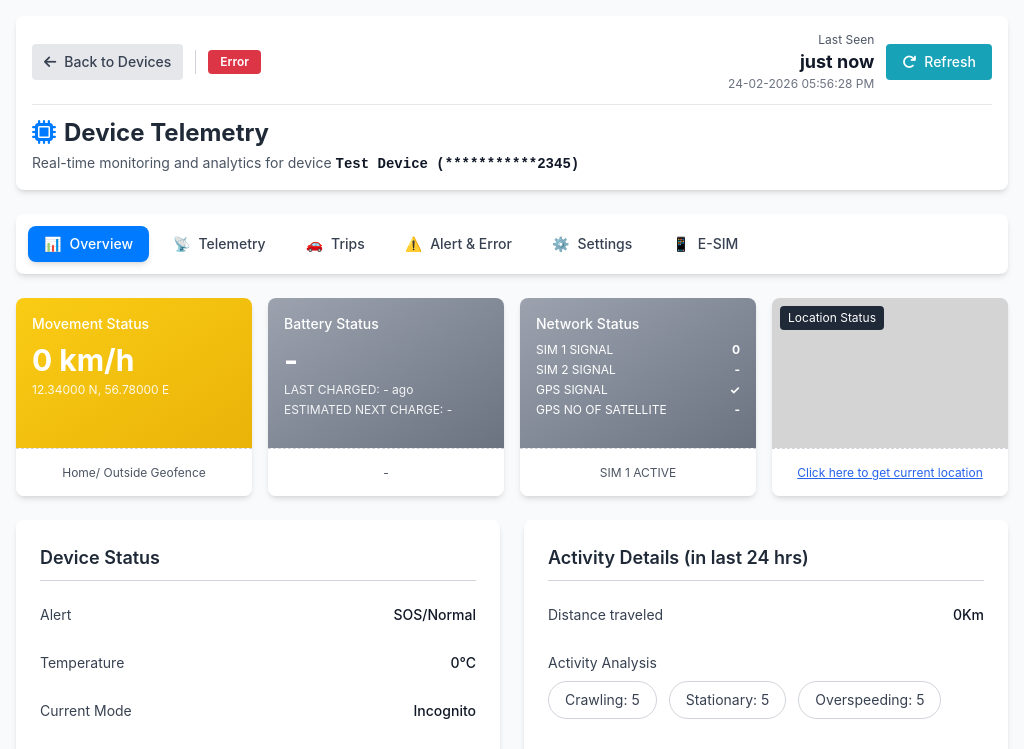
Test: Preservation Property Tests: Other Settings Tab Features › Property 2.9: E-SIM tab is accessible and displays
The image size is (1024, 749).
Click E-SIM tab
Click the button "📱 E-SIM" at coordinates (705, 244), box [656,226,754,262]
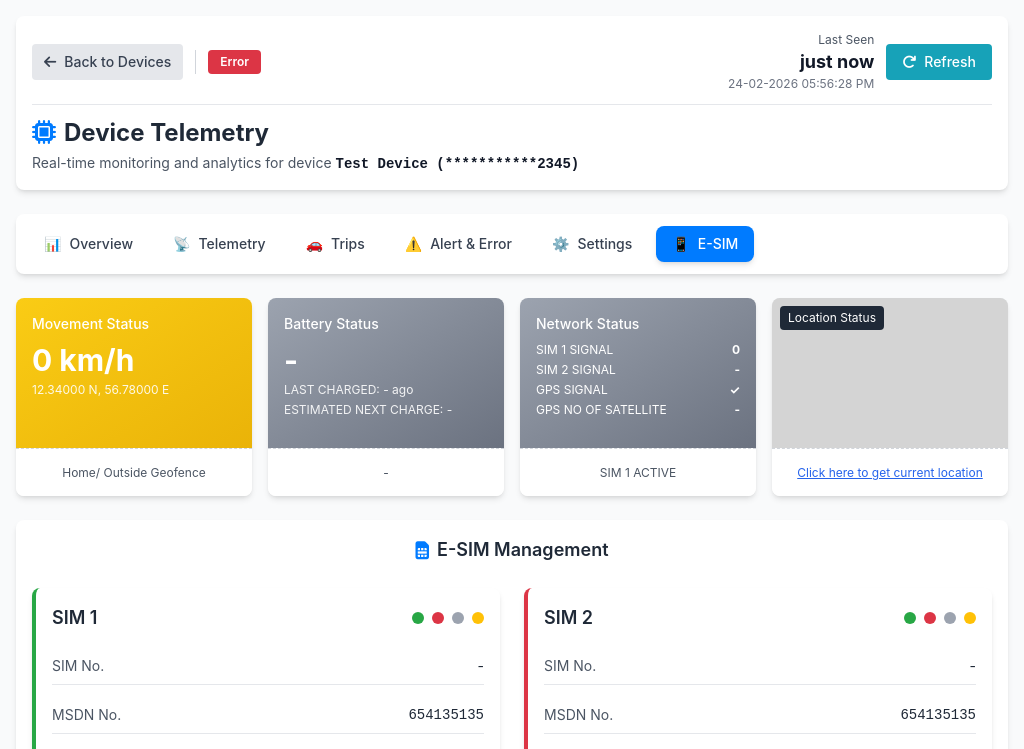
Check: the heading "E-SIM Management" is shown, box [416,539,608,560]
